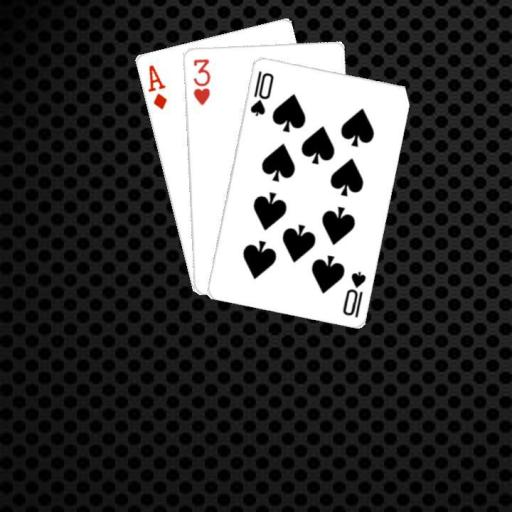10S: (339, 268, 368, 319), (247, 67, 275, 117)
3H: (190, 56, 211, 107)
AD: (144, 61, 168, 111)
